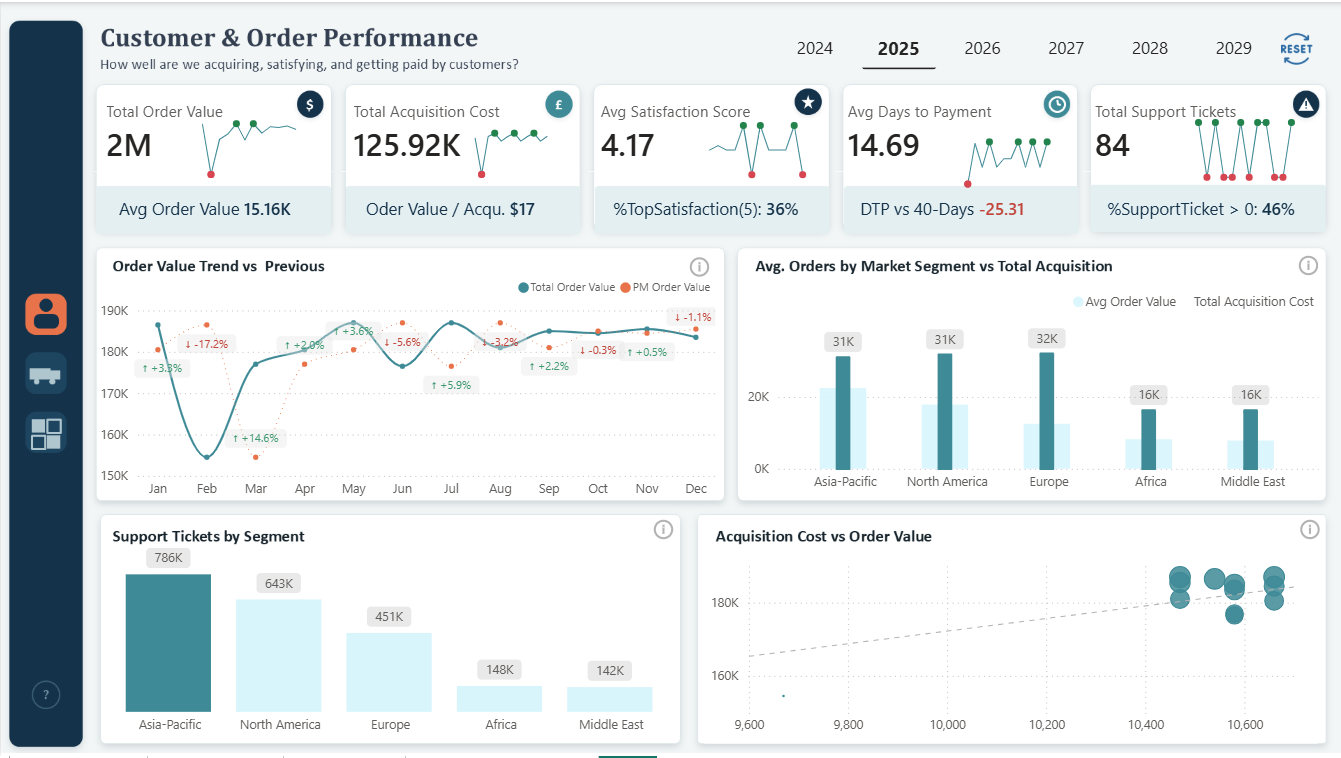

The dashboard page shown, as its layout file describes it:
{"tool":"powerbi","page":{"name":"Overview","canvas":[1280,720],"ordinal":0},"visuals":[{"type":"cardVisual","fields":{"Data":["Measures_.Total Order Value","Measures_.Total Acquisition Cost","Measures_.Avg Satisfaction Score","Measures_.Avg Days to Payment","Measures_.Total Support Tickets"]},"box":[71.5,69.9,1208.5,182.2],"z":0},{"type":"lineChart","fields":{"Category":["Calendar.MonthShort"],"Y":["Measures_.Total Order Value","Measures_.PM Order Value"]},"box":[89.3,252.9,598.1,228.6],"z":1000},{"type":"clusteredColumnChart","fields":{"Category":["Dim_MarketSegment.market_segment"],"Y":["Measures_.Avg Order Value","Measures_.Total Acquisition Cost"]},"box":[707.1,266.5,555.7,209],"z":2000},{"type":"clusteredColumnChart","fields":{"Category":["Dim_MarketSegment.market_segment"],"Y":["Measures_.Total Order Value"]},"box":[71.6,504.2,600.2,203.3],"z":3000},{"type":"scatterChart","fields":{"Category":["Calendar.MonthShort"],"Size":["Measures_.Total Order Value"],"X":["Measures_.Total Acquisition Cost"],"Y":["Measures_.Total Order Value"]},"box":[671.8,523.7,585.6,183.8],"z":4000},{"type":"lineChart","fields":{"Category":["Calendar.MonthNumber"],"Y":["Measures_.Total Acquisition Cost","select","select1"]},"box":[431,97.6,123.6,79.7],"z":5000},{"type":"lineChart","fields":{"Category":["Calendar.MonthNumber"],"Y":["Measures_.Avg Satisfaction Score","select","select1"]},"box":[653.9,100.8,151.3,79.7],"z":6000},{"type":"lineChart","fields":{"Category":["Calendar.MonthNumber"],"Y":["Measures_.Total Order Value","select","select1"]},"box":[169.2,97.6,151.3,79.7],"z":7000},{"type":"lineChart","fields":{"Category":["Calendar.MonthNumber"],"Y":["Measures_.Avg Days to Payment","select","select1"]},"box":[901.1,102.5,133.4,79.7],"z":8000},{"type":"lineChart","fields":{"Category":["Calendar.MonthNumber"],"Y":["Measures_.Total Support Tickets","select","select1"]},"box":[1120.7,97.6,151,79],"z":9000},{"type":"advancedSlicerVisual","fields":{"Values":["Calendar.Year"]},"box":[736.8,14.6,484.7,55.3],"z":10000},{"type":"actionButton","box":[653.9,239.1,34.2,27.7],"z":11000},{"type":"actionButton","box":[1234.5,237.5,34.2,27.7],"z":12000},{"type":"actionButton","box":[1236.2,489.6,34.2,27.7],"z":13000},{"type":"actionButton","box":[618.1,489.6,34.2,27.7],"z":14000},{"type":"actionButton","box":[1215.9,22.7,42.4,43.9],"z":15000},{"type":"pageNavigator","box":[16.7,275.6,51.5,162],"z":16000},{"type":"cardVisual","fields":{"Data":["Measures_.Base"]},"box":[614.8,487.6,33.3,33.3],"z":17000},{"type":"cardVisual","fields":{"Data":["Measures_.Base"]},"box":[652.6,234.7,33.3,33.3],"z":18000},{"type":"cardVisual","fields":{"Data":["Measures_.Base"]},"box":[1232.6,234.7,33.3,33.3],"z":19000},{"type":"cardVisual","fields":{"Data":["Measures_.Base"]},"box":[1232.6,490.6,30.3,25.7],"z":20000}]}

Visuals, with their boxes on the page's 1280x720 design canvas (x1, y1, x2, y2). These are canvas units, not pixel positions in the 1341x758 screenshot, which may show the page scaled, cropped or inside an application window:
cardVisual - Measures_.Total Order Value x Measures_.Total Acquisition Cost: 72/70/1280/252
lineChart - Calendar.MonthShort x Measures_.Total Order Value: 89/253/687/482
clusteredColumnChart - Dim_MarketSegment.market_segment x Measures_.Avg Order Value: 707/266/1263/476
clusteredColumnChart - Dim_MarketSegment.market_segment x Measures_.Total Order Value: 72/504/672/708
scatterChart - Calendar.MonthShort x Measures_.Total Order Value: 672/524/1257/708
lineChart - Calendar.MonthNumber x Measures_.Total Acquisition Cost: 431/98/555/177
lineChart - Calendar.MonthNumber x Measures_.Avg Satisfaction Score: 654/101/805/180
lineChart - Calendar.MonthNumber x Measures_.Total Order Value: 169/98/320/177
lineChart - Calendar.MonthNumber x Measures_.Avg Days to Payment: 901/102/1034/182
lineChart - Calendar.MonthNumber x Measures_.Total Support Tickets: 1121/98/1272/177
advancedSlicerVisual - Calendar.Year: 737/15/1222/70
actionButton: 654/239/688/267
actionButton: 1234/238/1269/265
actionButton: 1236/490/1270/517
actionButton: 618/490/652/517
actionButton: 1216/23/1258/67
pageNavigator: 17/276/68/438
cardVisual - Measures_.Base: 615/488/648/521
cardVisual - Measures_.Base: 653/235/686/268
cardVisual - Measures_.Base: 1233/235/1266/268
cardVisual - Measures_.Base: 1233/491/1263/516
